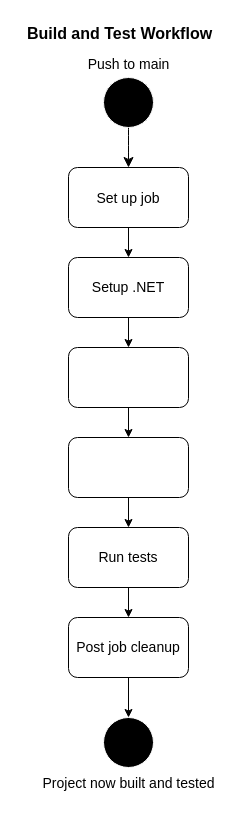
The diagram is 241 pixels wide and 814 high, and some of its shapes have lost their labels. The shapes that lost their labels are listed below. From the top down, each one's centre as x and y in pixels, then its label:
(x=128, y=377): Restore dependencies
(x=128, y=467): Build projects
